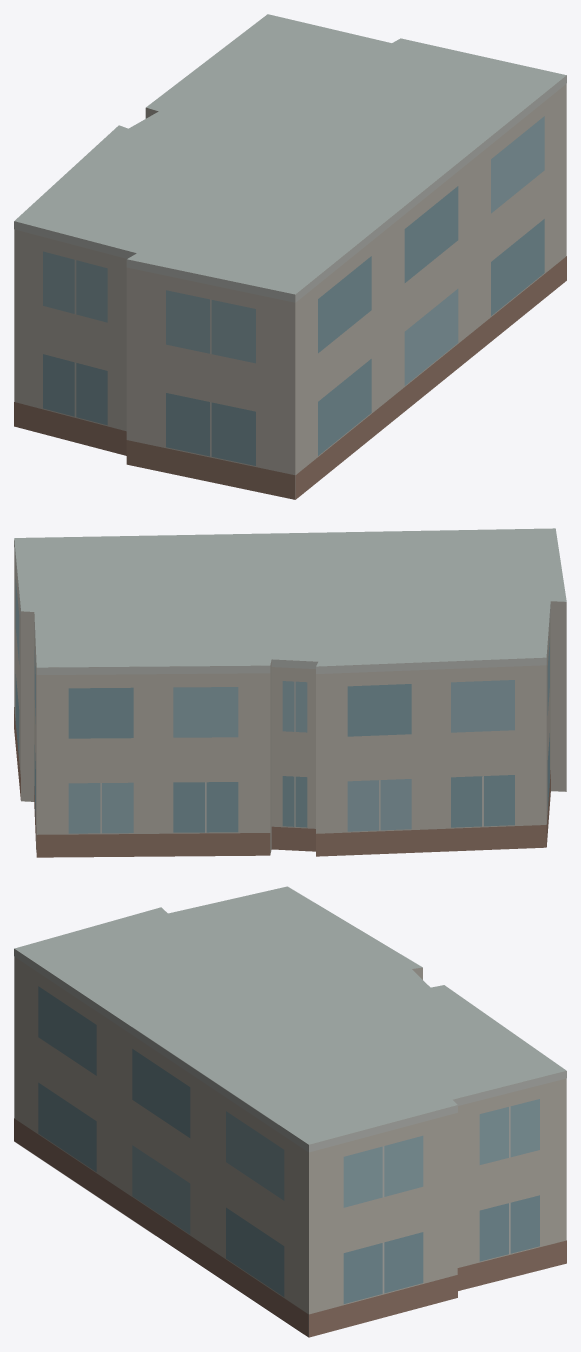
The model's file is survey-upis-32674550.glb.
The picture shows the model from 3 angles, top to bottom: view 1: azimuth 30°, elevation 25°; view 2: azimuth 150°, elevation 25°; view 3: azimuth 270°, elevation 25°; orthographic projection. The views are drawn at different scales.
Visible parts, largest first — view 1: survey-upis-32674550.tmp; view 2: survey-upis-32674550.tmp; view 3: survey-upis-32674550.tmp.
Part boxes in pixels (left/top/right/bottom): survey-upis-32674550.tmp: left=14, top=14, right=566, bottom=499; survey-upis-32674550.tmp: left=14, top=528, right=566, bottom=857; survey-upis-32674550.tmp: left=14, top=886, right=566, bottom=1337.
Bounding box in the file's own units: 17.55 × 6.1 × 15.86.
